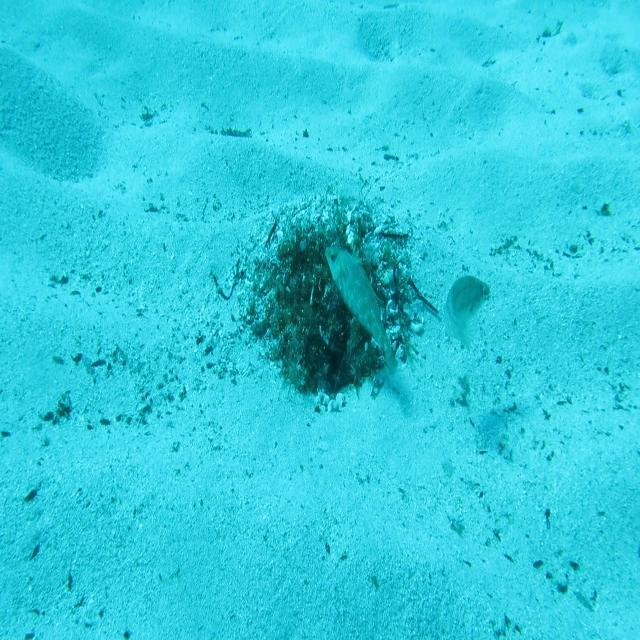ROLL: (323, 241, 400, 379)
core_nest: (295, 239, 357, 286)
female: (442, 270, 491, 367)
nest: (223, 181, 438, 423)
